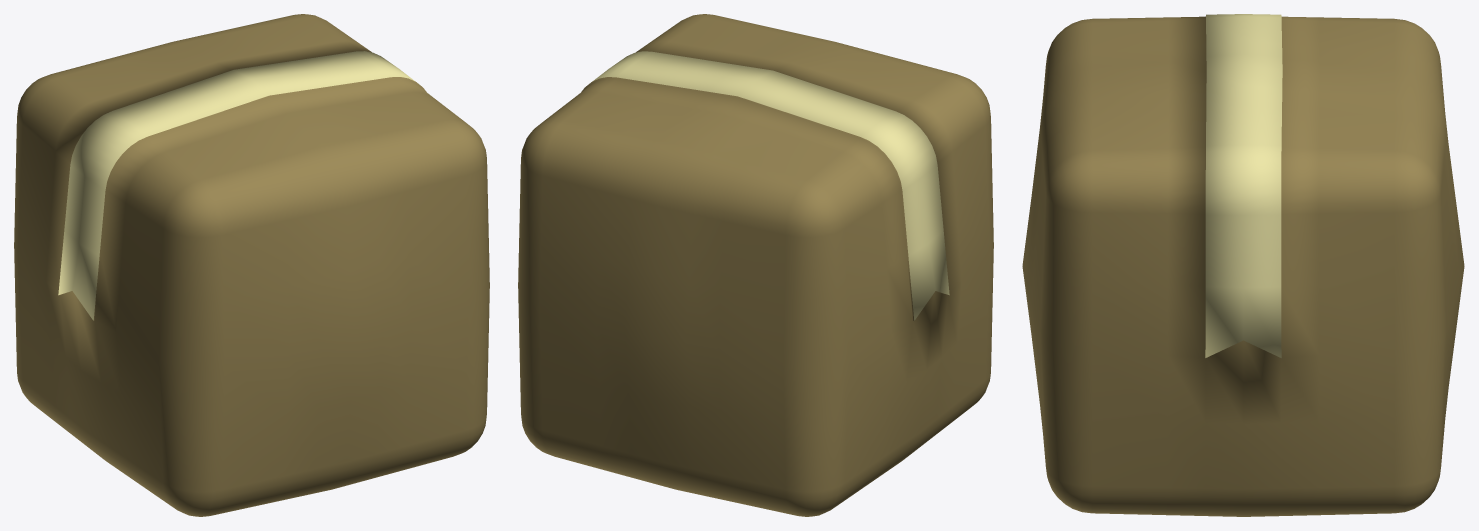
File: boxV2.fbx
3 views of the same model, side by side, from view 1: azimuth 30°, elevation 25°; view 2: azimuth 150°, elevation 25°; view 3: azimuth 270°, elevation 25° (orthographic). The views are drawn at different scales.
Visible parts, largest first — view 1: Cube; view 2: Cube; view 3: Cube.
Part boxes in pixels (x1,y1,x2,y2): Cube: (14,14,489,516); Cube: (518,14,993,516); Cube: (1022,14,1464,516).
Bounding box in the file's own units: 226 × 225 × 224.
